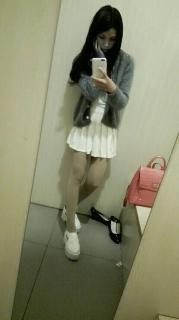long sleeve outwear: (71, 45, 136, 128)
skirt: (67, 103, 118, 158)
